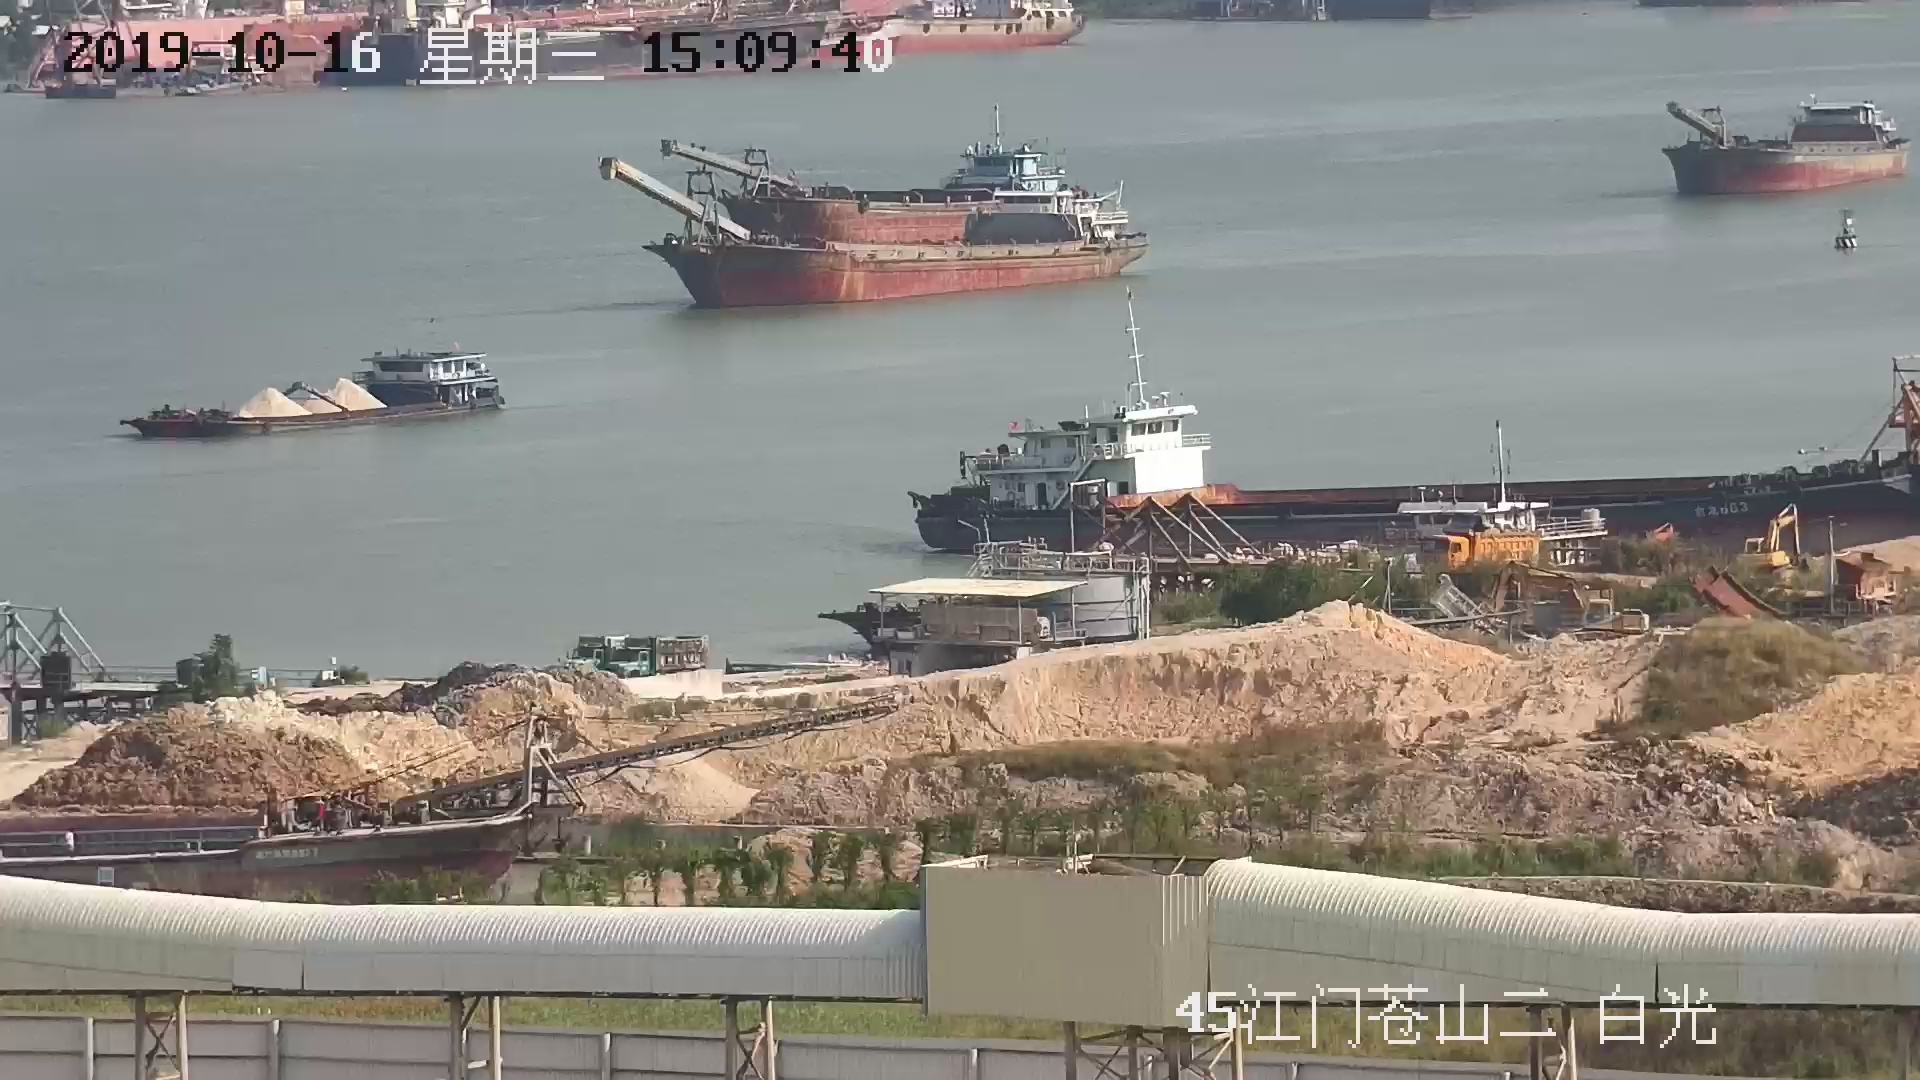ship: (895, 359, 1920, 580), (613, 113, 1153, 309), (124, 349, 498, 442), (1660, 98, 1911, 198)
